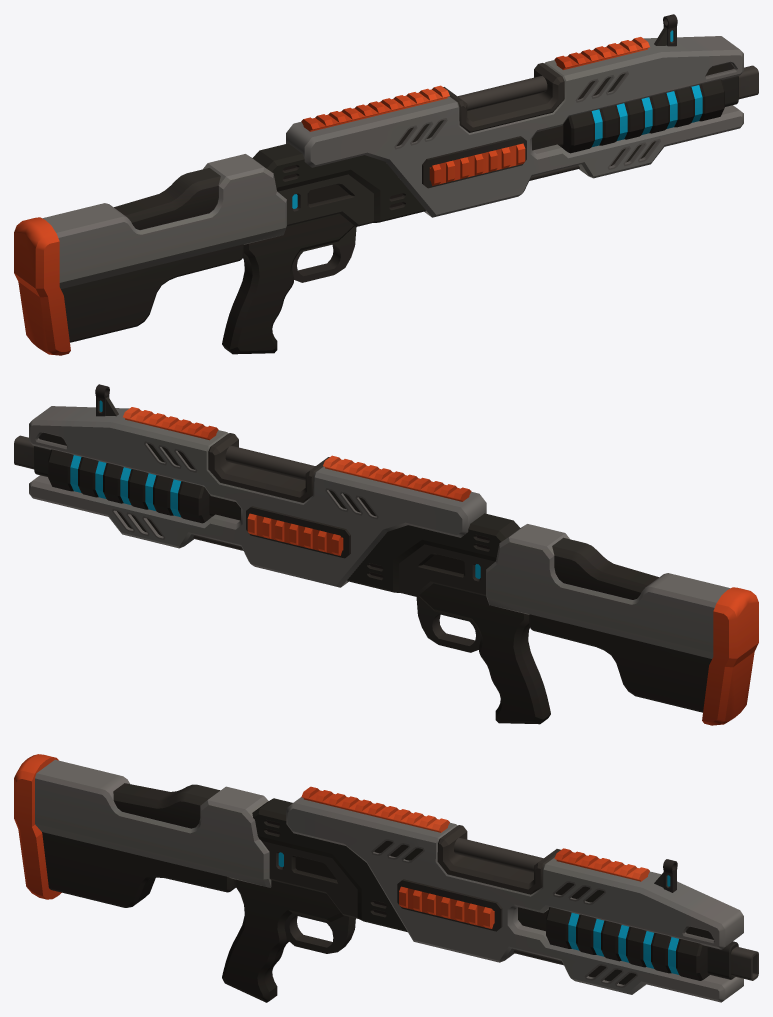
The picture shows the model from 3 angles, top to bottom: view 1: azimuth 30°, elevation 25°; view 2: azimuth 150°, elevation 25°; view 3: azimuth 330°, elevation 25°; orthographic projection.
Visible parts, largest first — view 1: MG1_Base; view 2: MG1_Base; view 3: MG1_Base.
Boxes of the visible parts, x1,y1,x2,y2 form: MG1_Base: (14,14,758,355); MG1_Base: (14,384,758,725); MG1_Base: (14,754,758,1002).
Size of the model in its own units: 97.2 by 30.14 by 8.16.
